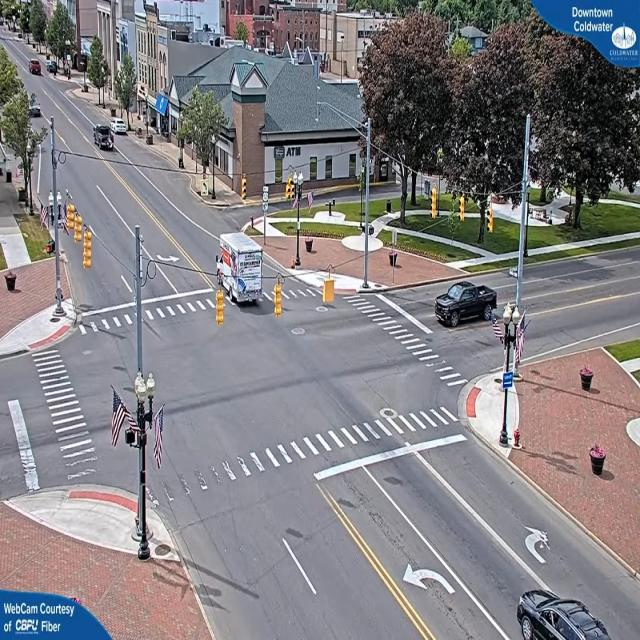car: (514, 593, 628, 639), (434, 279, 496, 327), (113, 120, 129, 137)
truck: (216, 236, 266, 310)
